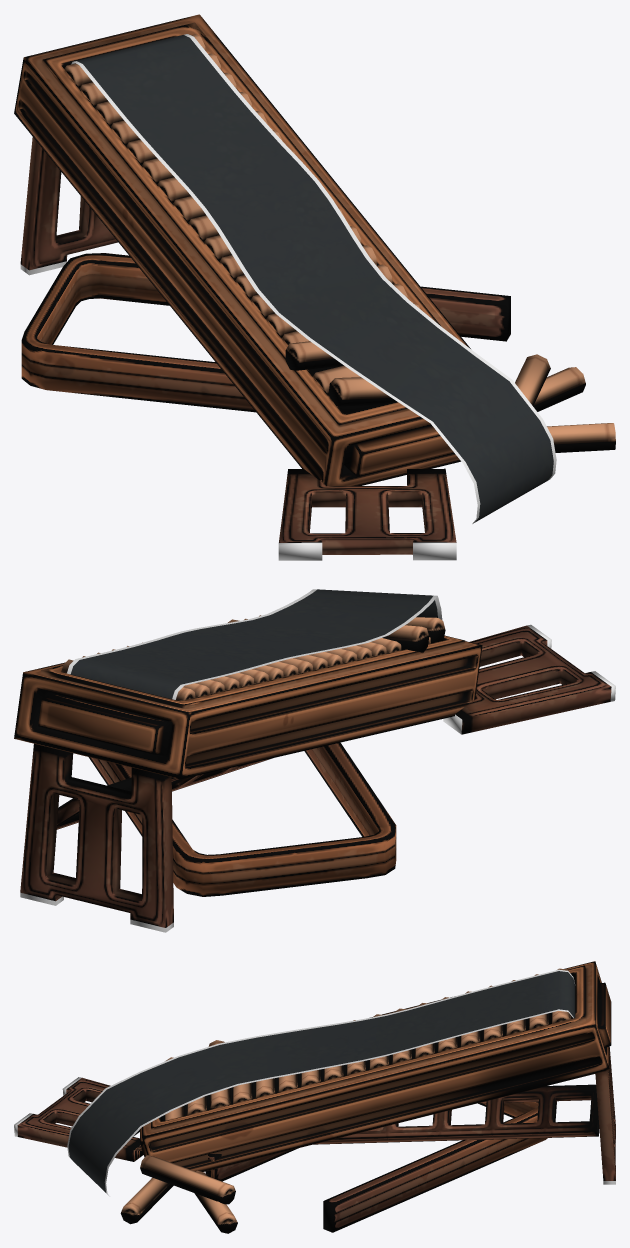
File: conveyorBelt_Broken.fbx
3 views of the same model, one above another, from view 1: azimuth 30°, elevation 25°; view 2: azimuth 150°, elevation 25°; view 3: azimuth 270°, elevation 25° (orthographic). The views are drawn at different scales.
Visible parts, largest first — view 1: conveyorBelt_Broken; view 2: conveyorBelt_Broken; view 3: conveyorBelt_Broken.
Part boxes in pixels (x1,y1,x2,y2): conveyorBelt_Broken: (14,14,615,560); conveyorBelt_Broken: (14,589,615,932); conveyorBelt_Broken: (14,961,615,1233).
Size of the model in its own units: 469 by 251 by 809.
